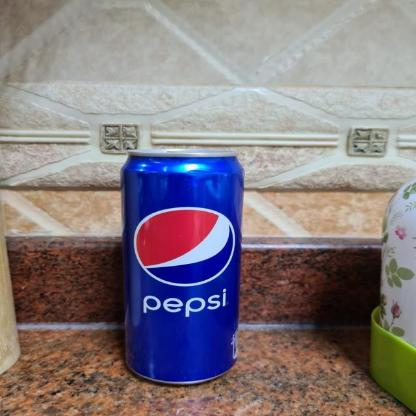Can: (112, 149, 245, 390)
